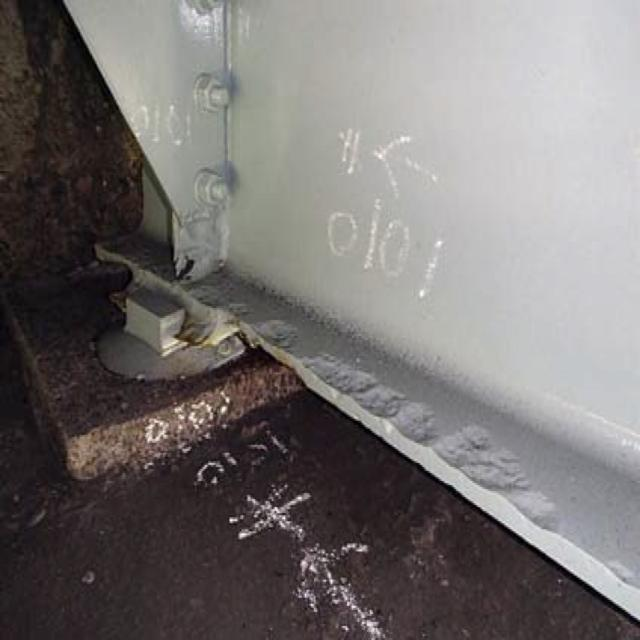corrosion: (5, 36, 272, 483)
